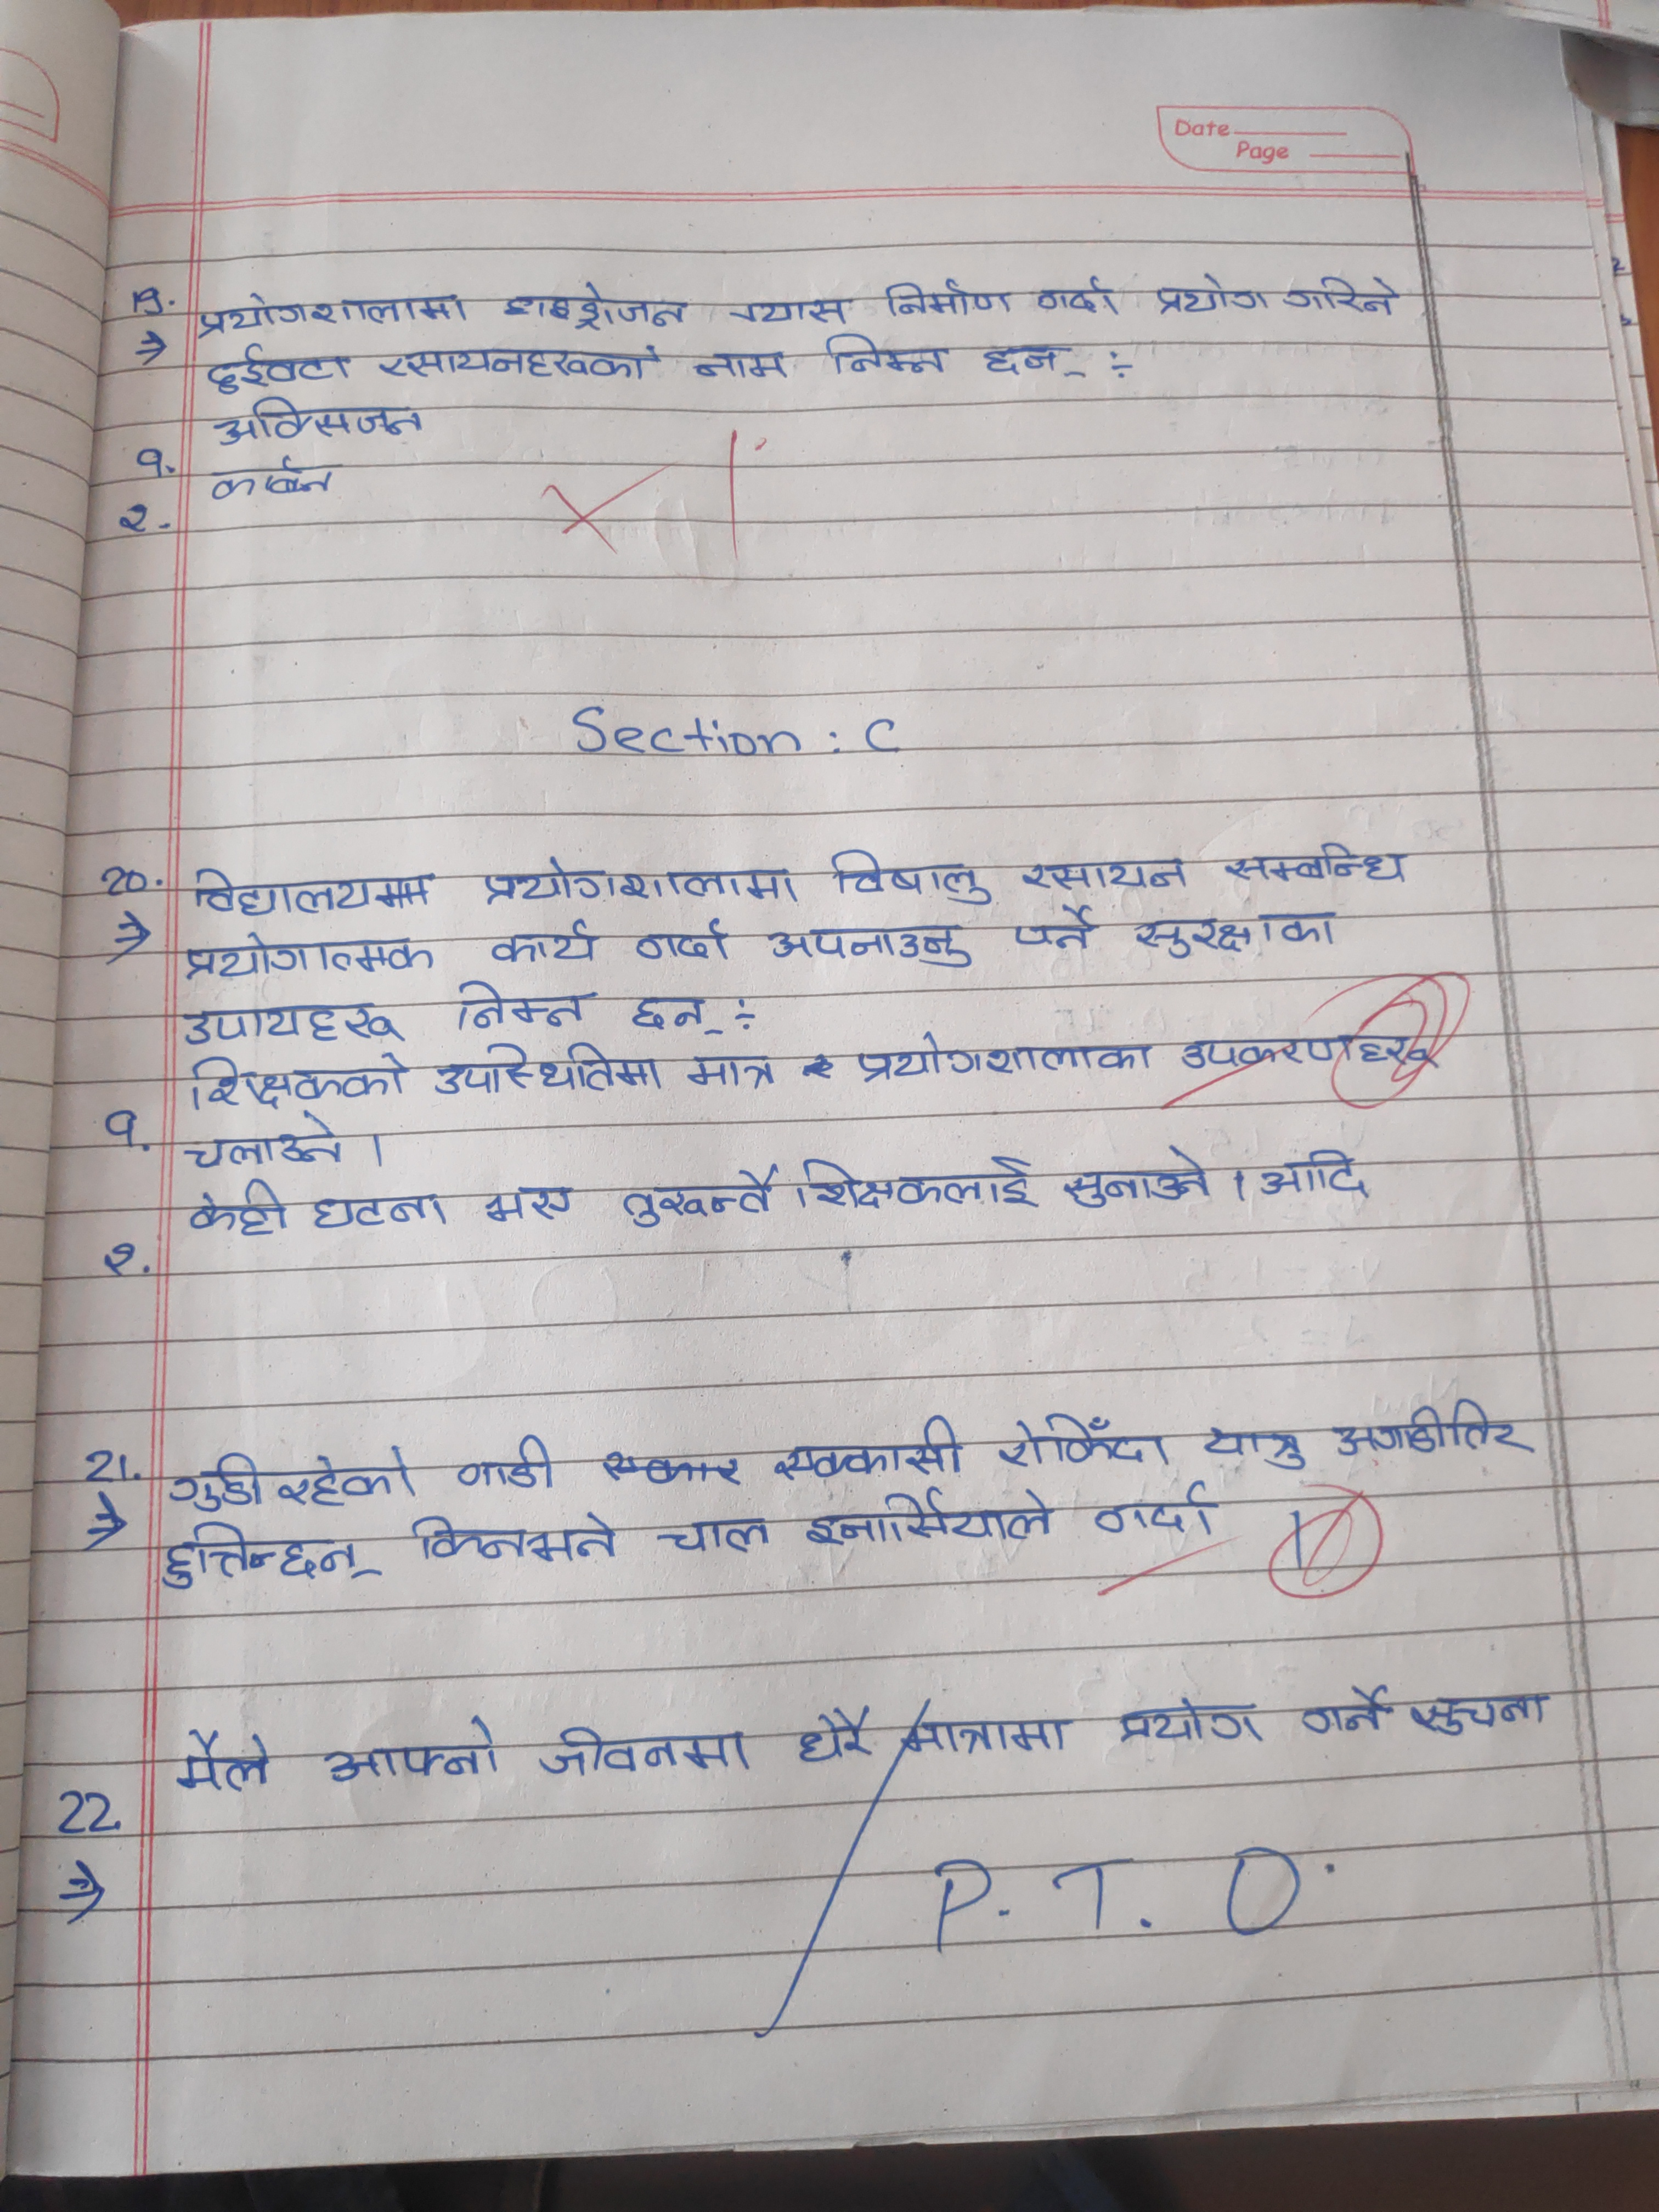text: (852, 1031, 1159, 1085), (476, 853, 803, 904), (157, 1521, 383, 1588), (795, 1155, 1044, 1212), (427, 1040, 666, 1099), (805, 1491, 1051, 1548), (195, 291, 465, 343), (1175, 1028, 1446, 1078), (406, 1500, 617, 1562), (769, 1418, 971, 1480), (540, 1724, 756, 1782), (186, 866, 432, 916), (995, 1407, 1176, 1475), (176, 1055, 410, 1108), (1333, 1402, 1544, 1460), (1223, 836, 1429, 894), (326, 1719, 504, 1785), (179, 934, 436, 979), (211, 395, 436, 446), (1134, 907, 1344, 961), (756, 923, 979, 972), (502, 277, 695, 333), (613, 1165, 781, 1230), (183, 998, 410, 1045), (174, 1115, 347, 1176), (821, 846, 999, 904), (369, 343, 662, 378), (1060, 1150, 1222, 1209), (1110, 1689, 1270, 1749), (894, 1714, 1080, 1761), (1016, 845, 1195, 894), (1406, 1688, 1563, 1743), (279, 1444, 420, 1505), (450, 977, 592, 1036), (1093, 1480, 1218, 1543), (823, 326, 955, 385), (179, 1177, 291, 1247), (169, 1724, 281, 1792), (206, 345, 354, 392), (878, 272, 1016, 320), (1297, 1677, 1403, 1740), (303, 1188, 453, 1231), (169, 1449, 267, 1515), (207, 456, 338, 505), (455, 1430, 552, 1494), (1155, 270, 1276, 322), (791, 1702, 884, 1770), (1195, 1421, 1317, 1470), (1279, 272, 1405, 319), (486, 916, 606, 965), (976, 334, 1087, 387), (626, 918, 737, 968), (1258, 1150, 1373, 1197), (474, 1183, 580, 1233), (662, 1514, 775, 1559), (678, 347, 803, 387), (624, 991, 727, 1040), (678, 1052, 788, 1097), (1004, 904, 1100, 953), (727, 294, 857, 329), (1032, 275, 1126, 322)
